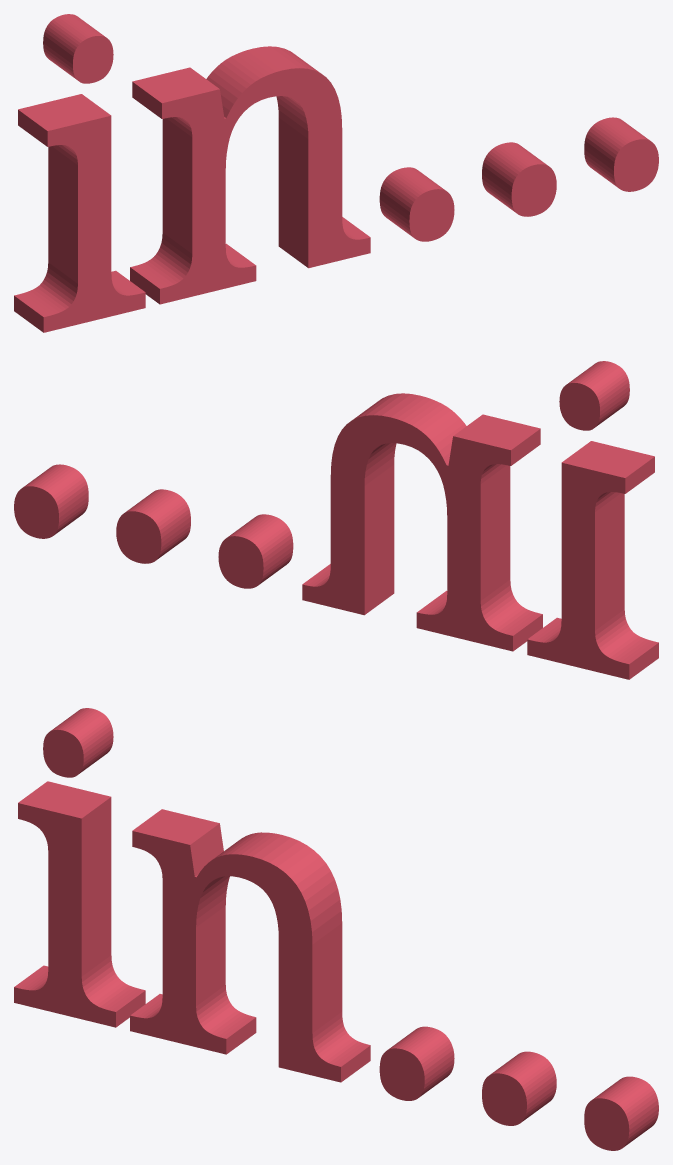
The picture shows the model from 3 angles, top to bottom: view 1: azimuth 30°, elevation 25°; view 2: azimuth 150°, elevation 25°; view 3: azimuth 330°, elevation 25°; orthographic projection.
Visible parts, largest first — view 1: tinker2:group_0_15277357; view 2: tinker2:group_0_15277357; view 3: tinker2:group_0_15277357.
Boxes of the visible parts, left/top/right/bottom form: tinker2:group_0_15277357: left=14, top=14, right=658, bottom=332; tinker2:group_0_15277357: left=14, top=361, right=658, bottom=679; tinker2:group_0_15277357: left=14, top=708, right=658, bottom=1150.
Size of the model in its own units: 47.78 by 21.3 by 4.
